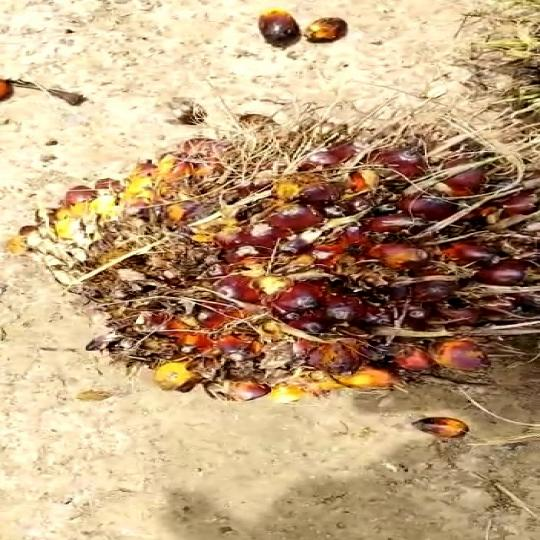masak: (31, 122, 540, 403)
